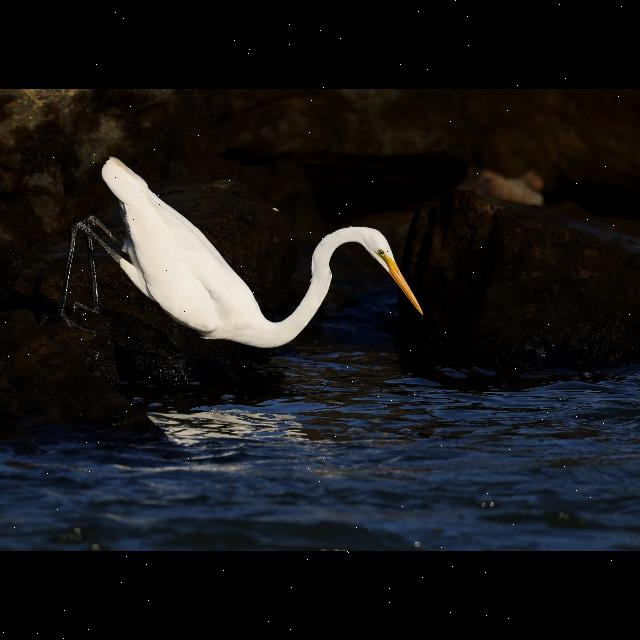egret: (56, 152, 437, 352)
